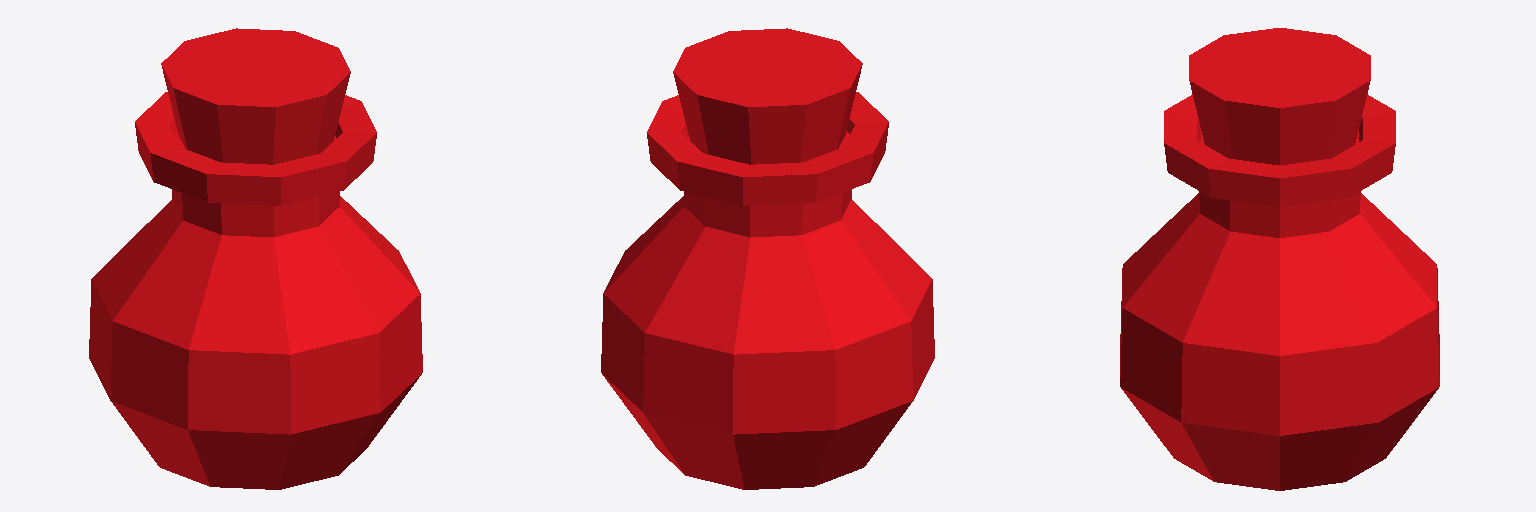
3 views of the same model, side by side, from view 1: azimuth 30°, elevation 25°; view 2: azimuth 150°, elevation 25°; view 3: azimuth 270°, elevation 25° (orthographic).
Parts seen in each view (by area): view 1: pCylinder1; view 2: pCylinder1; view 3: pCylinder1.
Boxes of the visible parts, x1,y1,x2,y2 form: pCylinder1: [89, 28, 422, 489]; pCylinder1: [601, 28, 934, 489]; pCylinder1: [1120, 28, 1439, 490].
Bounding box in the file's own units: 3.02 × 3.73 × 2.87.
1 materials, 1 textured.